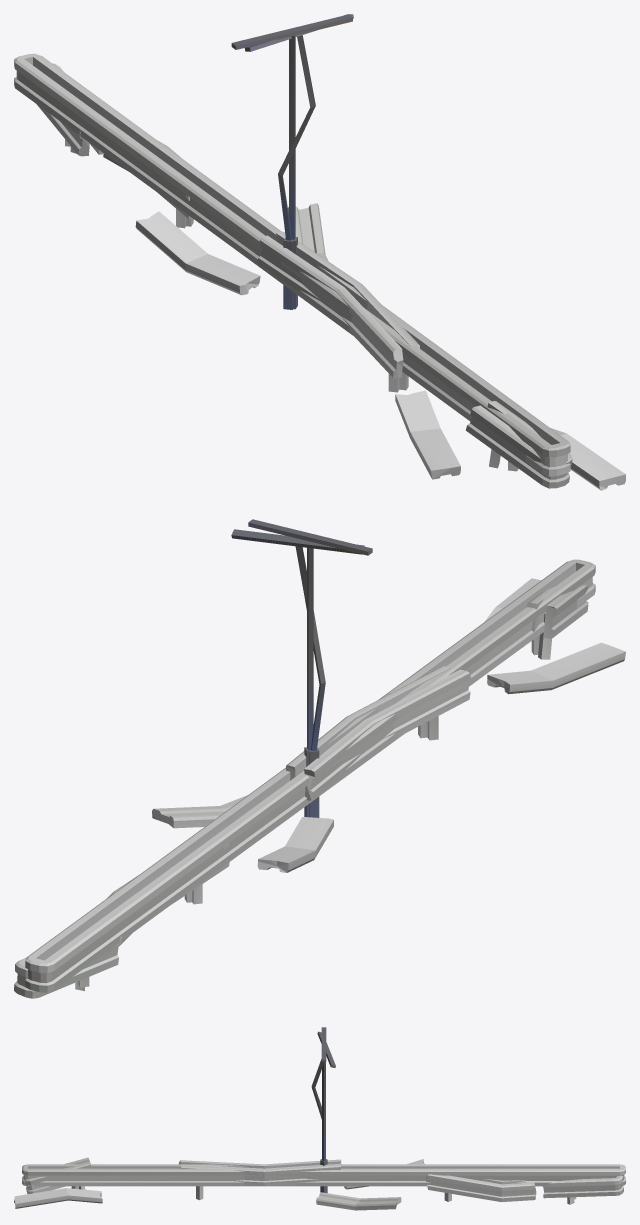
File: MiddleRail1.fbx
3 renders of one model, top to bottom at view 1: azimuth 30°, elevation 25°; view 2: azimuth 150°, elevation 25°; view 3: azimuth 270°, elevation 25°, orthographic. The views are drawn at different scales.
Visible parts, largest first — view 1: MiddleRail1, MiddleRail1_dead; view 2: MiddleRail1, MiddleRail1_dead; view 3: MiddleRail1, MiddleRail1_dead.
Part boxes in pixels (x1,y1,x2,y2): MiddleRail1: (14,14,570,476); MiddleRail1_dead: (37,14,625,490); MiddleRail1: (25,519,595,992); MiddleRail1_dead: (14,529,625,998); MiddleRail1: (22,1027,625,1200); MiddleRail1_dead: (14,1031,623,1210).
Bounding box in the file's own units: 6.39 × 9.9 × 34.45.
